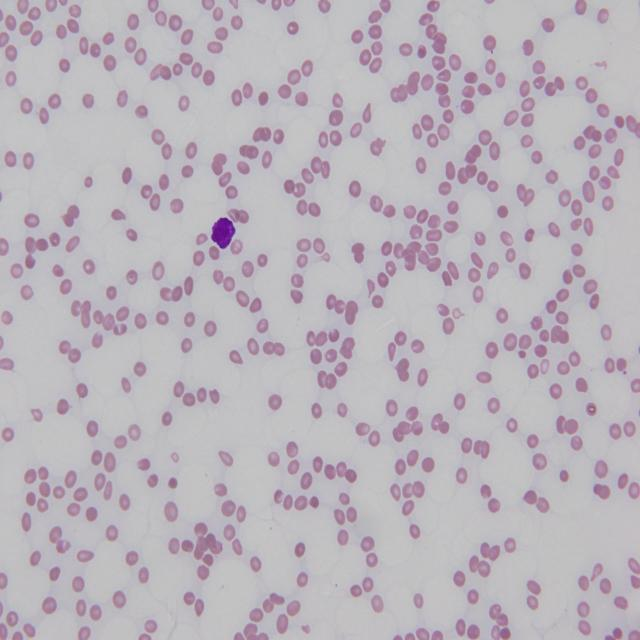cell: (211, 217, 235, 249)
